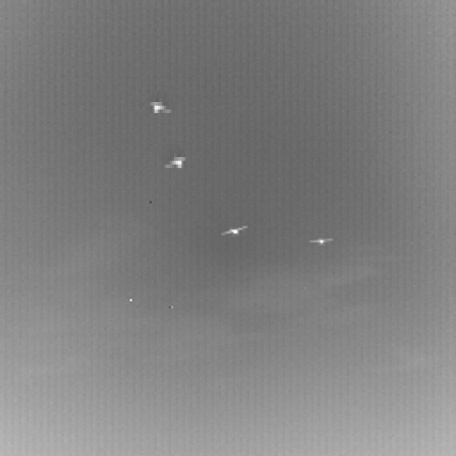plane: (158, 141, 188, 171), (147, 87, 177, 117), (216, 218, 246, 235), (306, 231, 333, 245)
